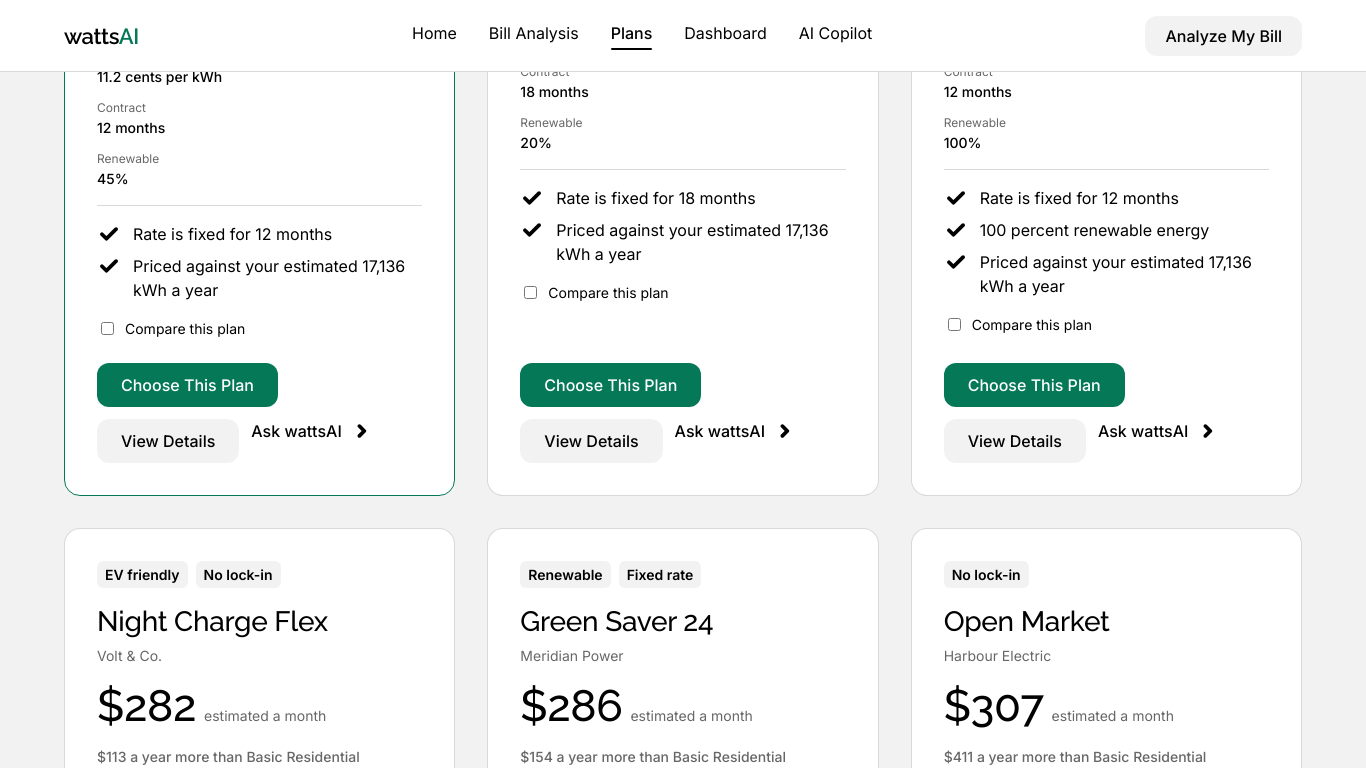
Test: detail drawer › states plainly that choosing a plan does not enroll anyone
This screenshot has width=1366, height=768.
(page scrolled)
Click the button "Choose This Plan" below "45".
click(188, 385)  # box [97, 363, 278, 407]
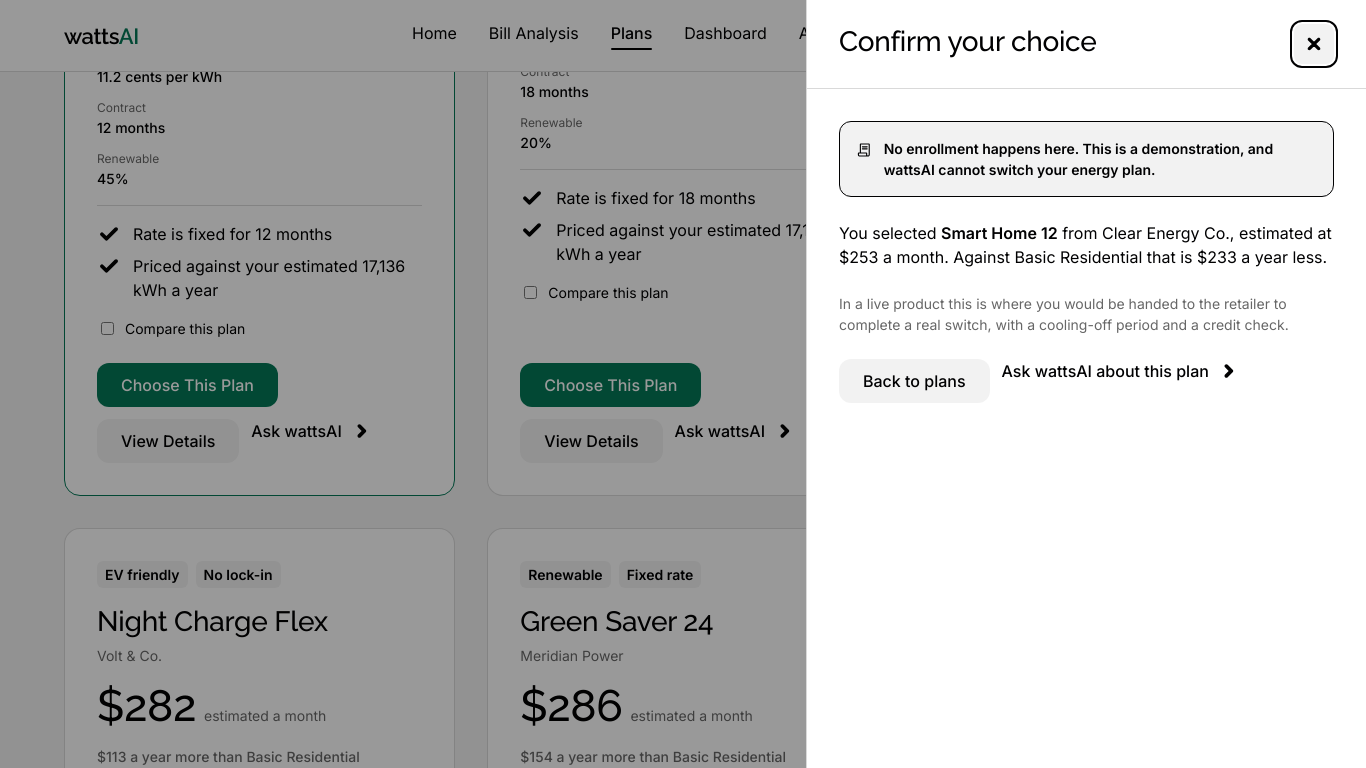
Check: the message shows "No enrollment happens here", box [884, 140, 1273, 178]
